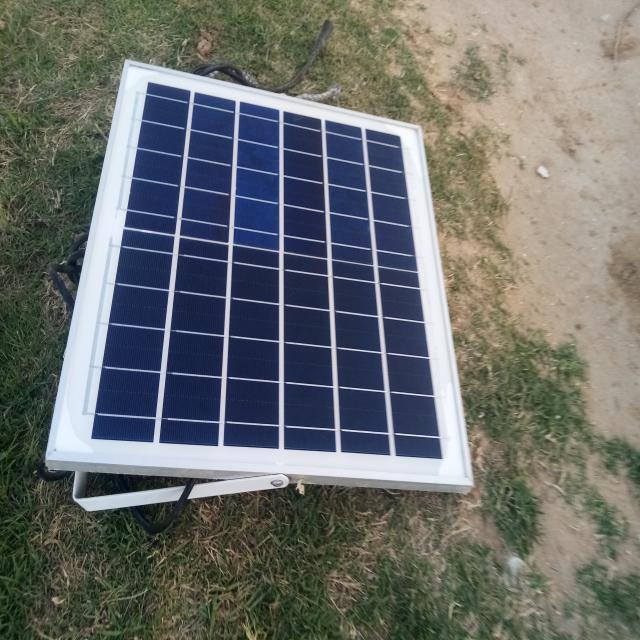no faulty: (55, 59, 471, 486)
